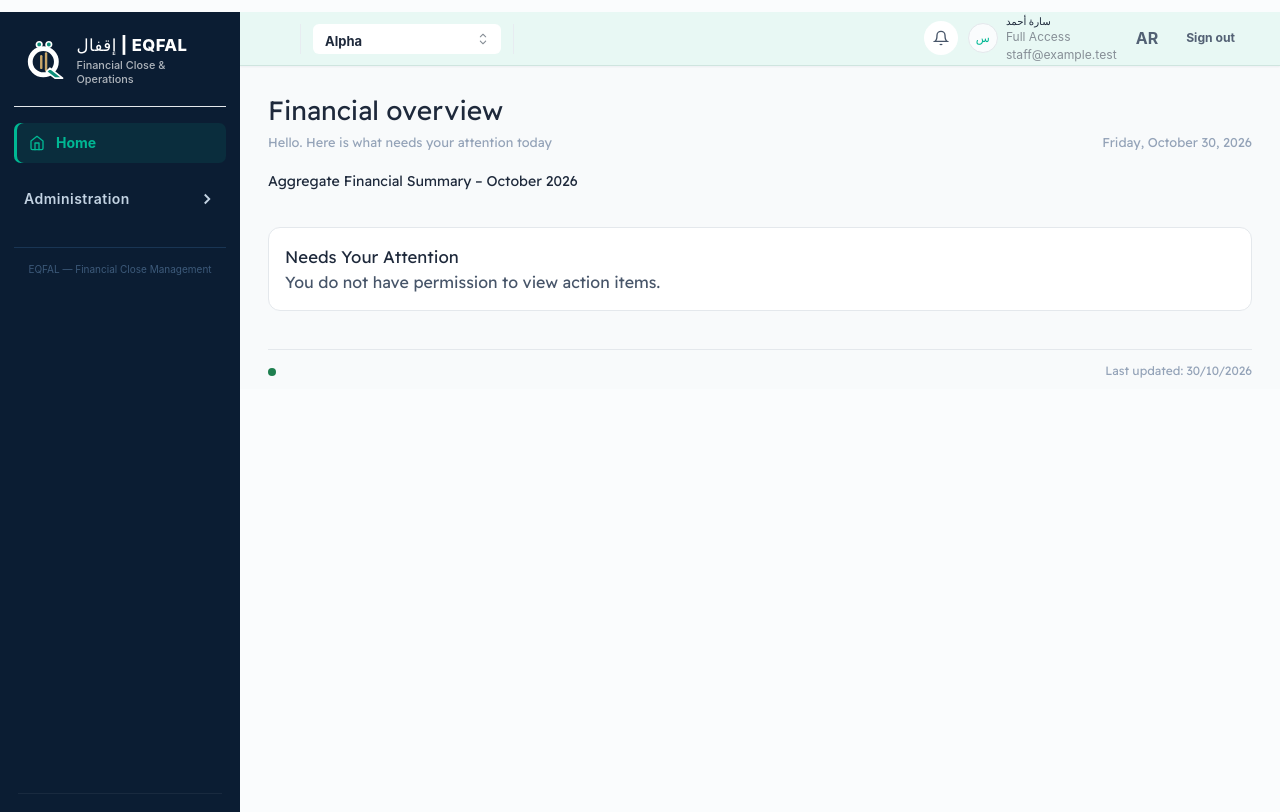
it: header after a session refresh › shows an edited name once the session is re-read
Expected: the text "سارة أحمد" is shown, x1=1006 y1=15 x2=1051 y2=27
Select "Beta" in the dropdown named "Switch active company" at (407, 38), box x1=313 y1=24 x2=501 y2=54
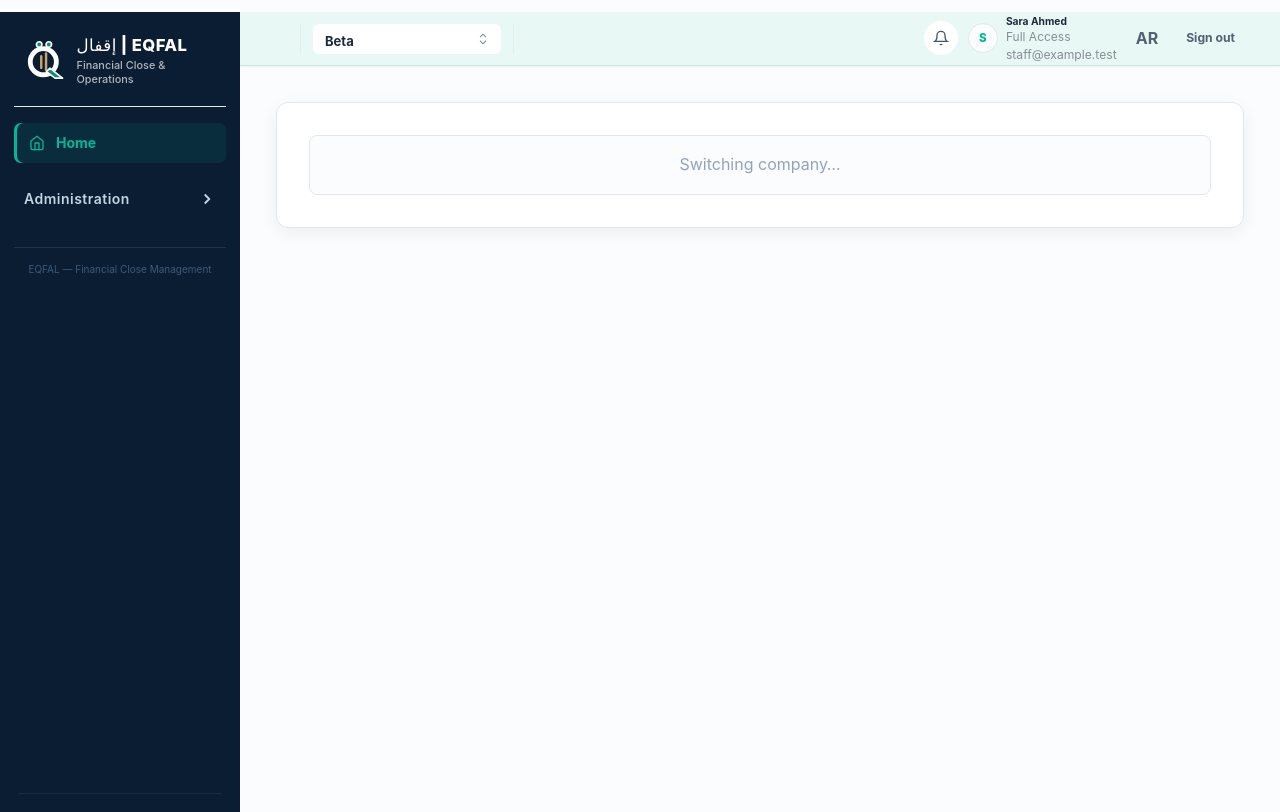
Now the text "Sara Ahmed" is shown, box x1=1006 y1=15 x2=1067 y2=27
